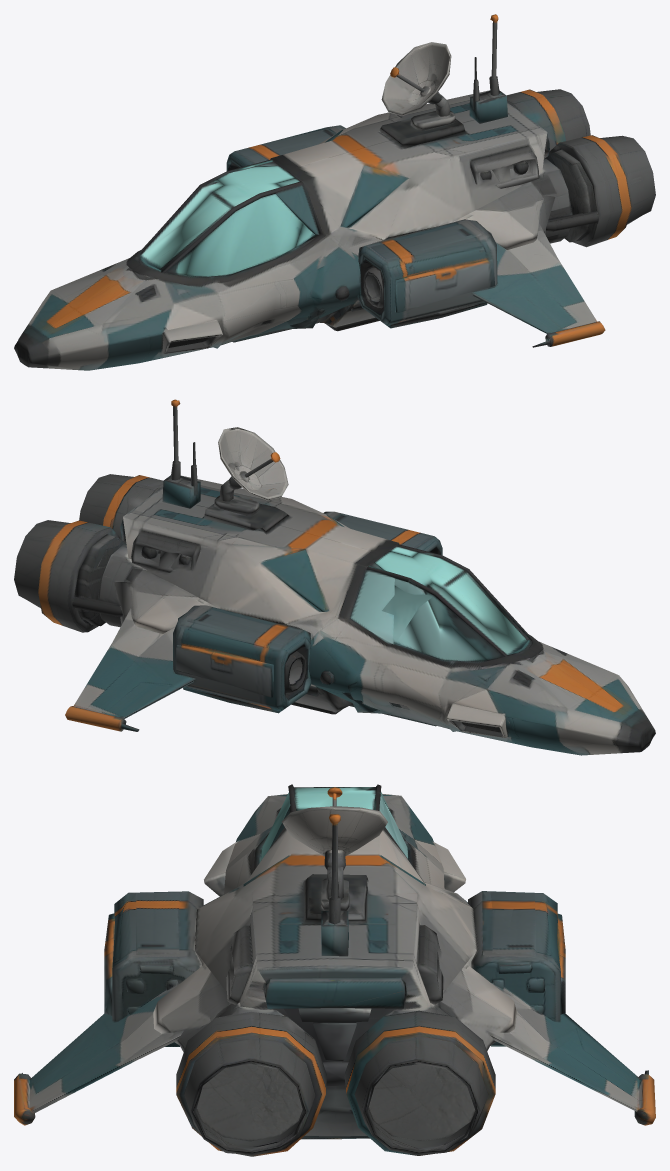
The model's file is Meshy_AI__0901010044_texture.glb.
The picture shows the model from 3 angles, top to bottom: view 1: azimuth 30°, elevation 25°; view 2: azimuth 150°, elevation 25°; view 3: azimuth 270°, elevation 25°; orthographic projection. The views are drawn at different scales.
Parts seen in each view (by area): view 1: mesh_node; view 2: mesh_node; view 3: mesh_node.
Boxes of the visible parts, bbox=[...] form: mesh_node: bbox=[14, 14, 655, 370]; mesh_node: bbox=[14, 399, 655, 755]; mesh_node: bbox=[14, 784, 655, 1156].
Size of the model in its own units: 2 by 0.8262 by 1.41.
Materials: 1 (1 with a texture image).
